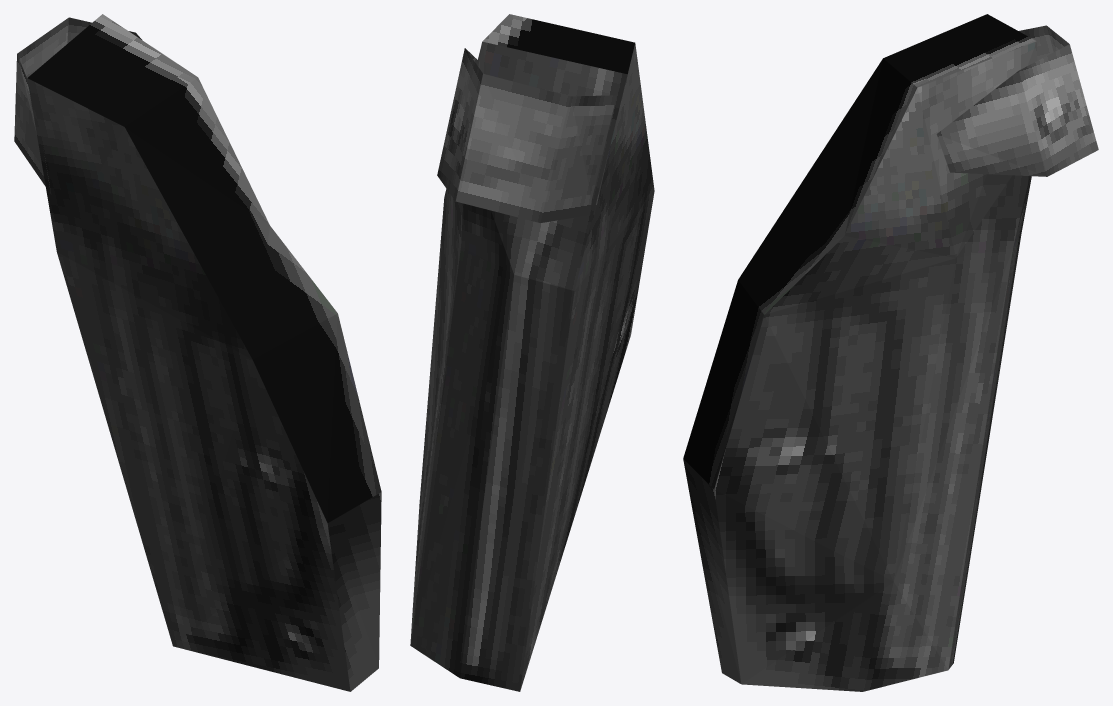
Rendered from recovered_gear_gear_holster_73d46ff40505.glb.
3 renders of one model, left to right at view 1: azimuth 30°, elevation 25°; view 2: azimuth 150°, elevation 25°; view 3: azimuth 270°, elevation 25°, orthographic. The views are drawn at different scales.
Parts seen in each view (by area): view 1: gear_holster; view 2: gear_holster; view 3: gear_holster.
Boxes of the visible parts, x1,y1,x2,y2 form: gear_holster: [14, 14, 381, 691]; gear_holster: [410, 14, 654, 691]; gear_holster: [683, 14, 1098, 691].
Size of the model in its own units: 0.1026 by 0.2471 by 0.1548.
Materials: 1 (1 with a texture image).
